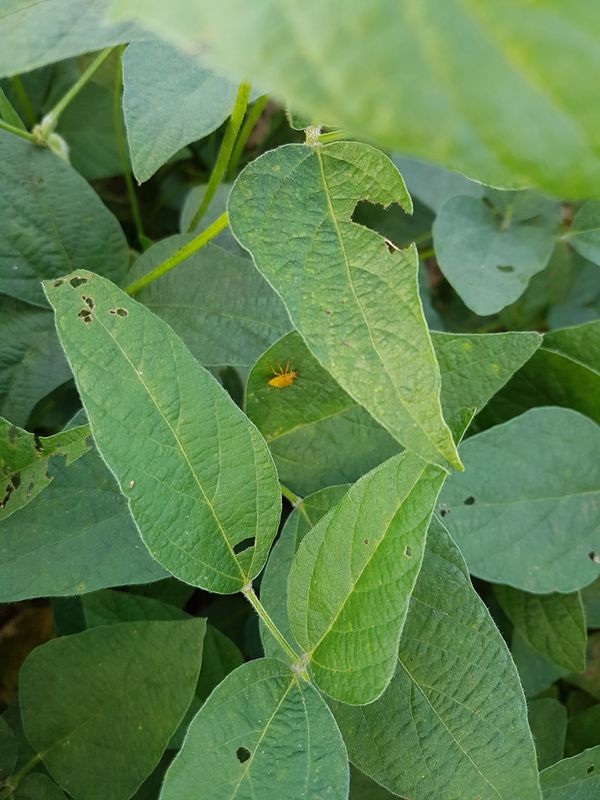Euschistus_heros_ninfa: (261, 358, 304, 395)
